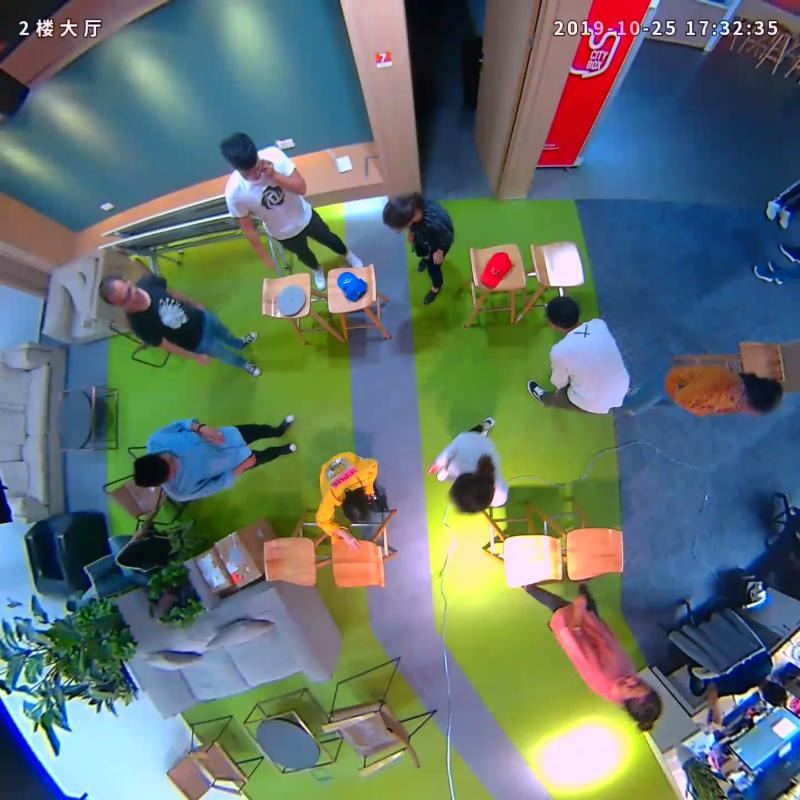head: (611, 672, 669, 730), (214, 129, 270, 182), (447, 468, 502, 517), (739, 372, 789, 418), (372, 191, 423, 236), (129, 451, 186, 490), (94, 269, 146, 310), (539, 295, 586, 332), (336, 490, 376, 528)
